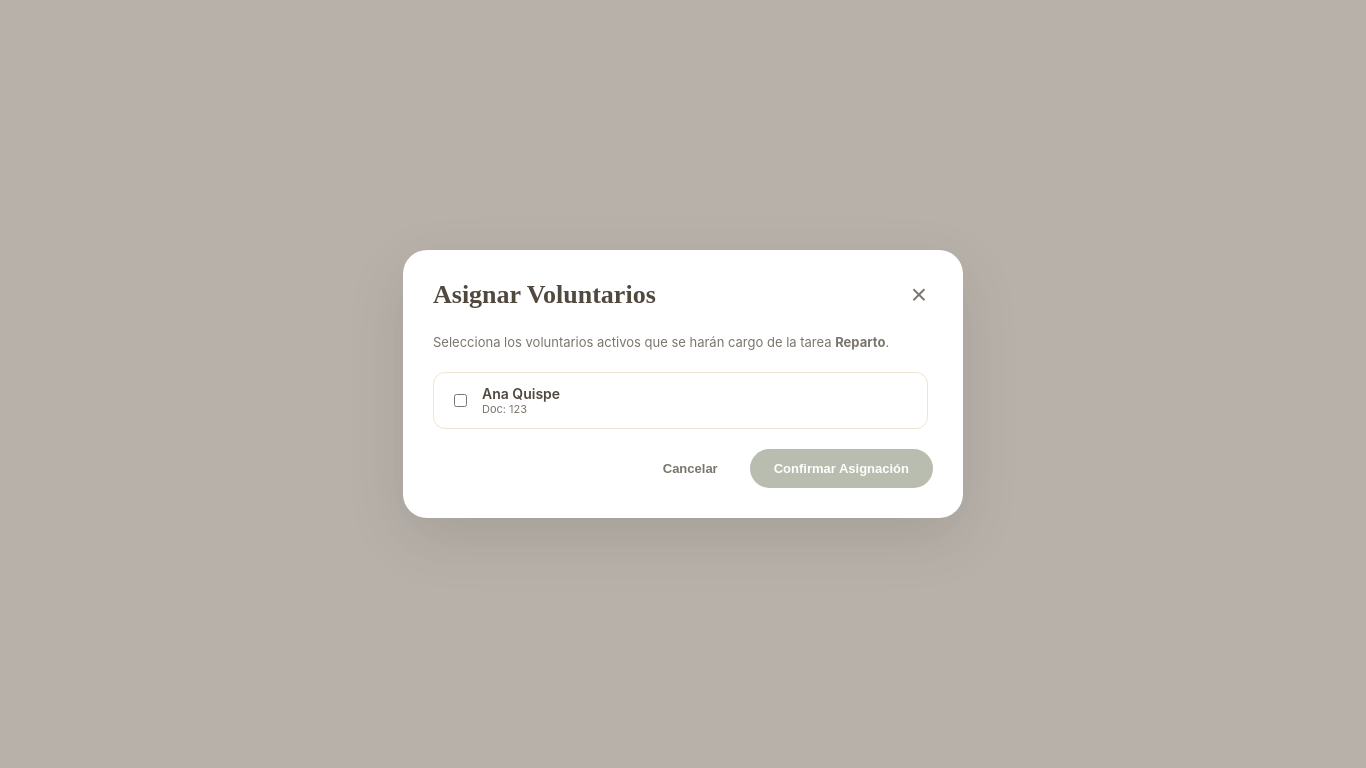
Test: AsignarVoluntarioModal › el botón de guardar permanece deshabilitado hasta seleccionar al menos uno
Check: the button with class "btn-guardar" is disabled, box [750,449,933,488]
Click the checkbox labelled "Ana Quispe Doc: 123" at (460, 401), box [454,394,467,407]
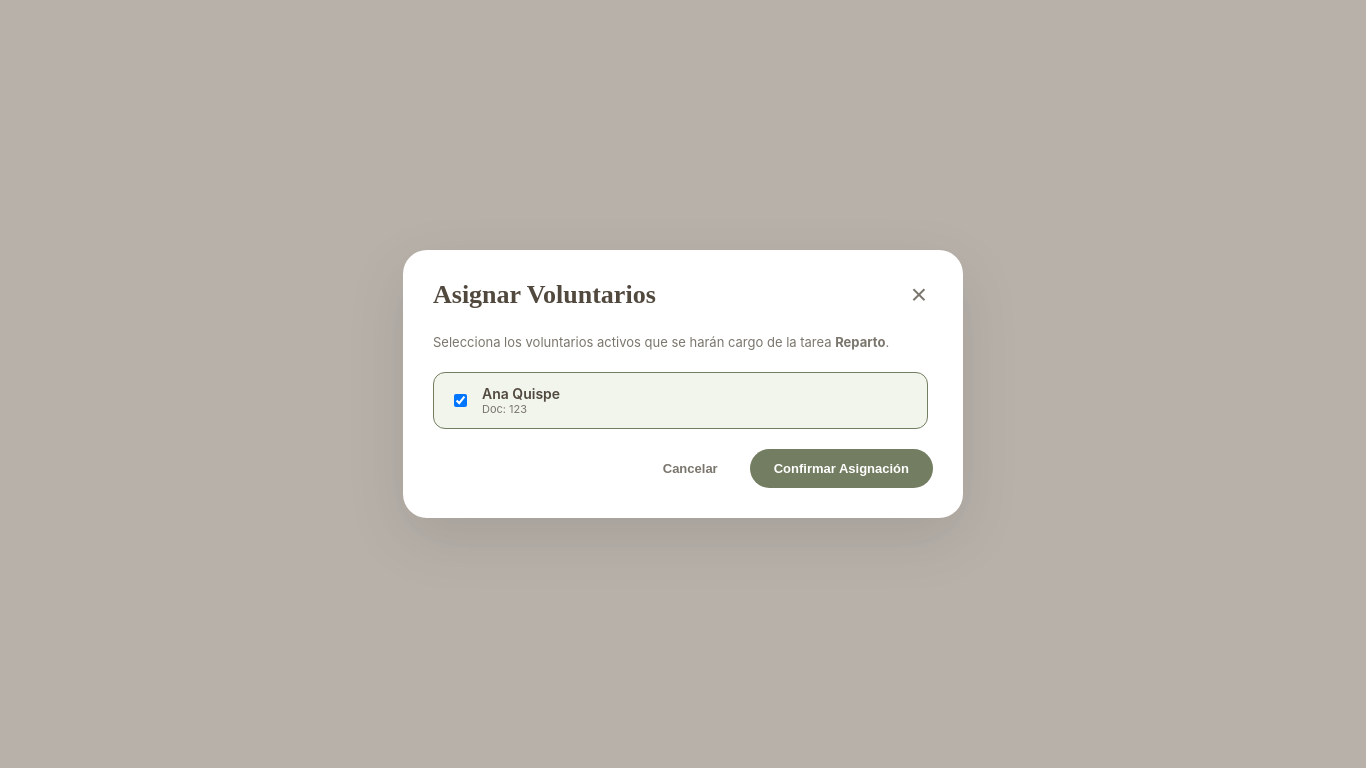
Check: the button with class "btn-guardar" is enabled, box [750,449,933,488]
